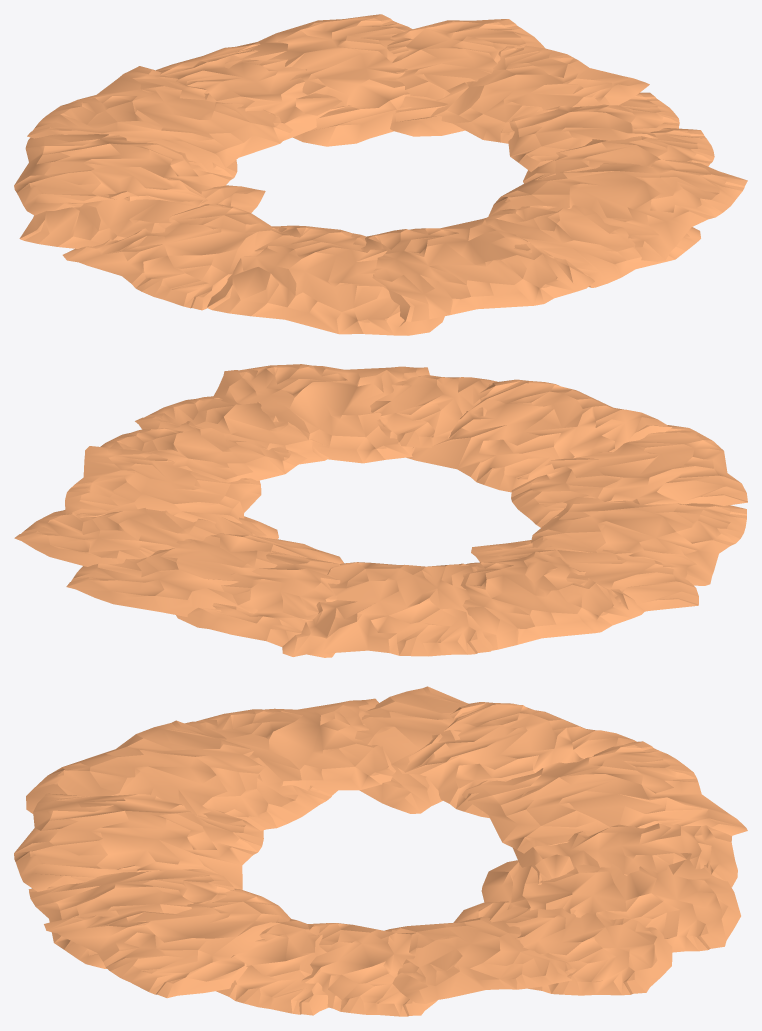
File: dunes.glb
3 renders of one model, top to bottom at view 1: azimuth 30°, elevation 25°; view 2: azimuth 150°, elevation 25°; view 3: azimuth 270°, elevation 25°, orthographic. The views are drawn at different scales.
Visible parts, largest first — view 1: dune_010.003; view 2: dune_010.003; view 3: dune_010.003.
Boxes of the visible parts, x1=… form: dune_010.003: x1=14, y1=14, x2=747, y2=335; dune_010.003: x1=14, y1=364, x2=747, y2=657; dune_010.003: x1=14, y1=686, x2=747, y2=1016.
Bounding box in the file's own units: 2708 × 119 × 2591.
1 material, 1 textured.
